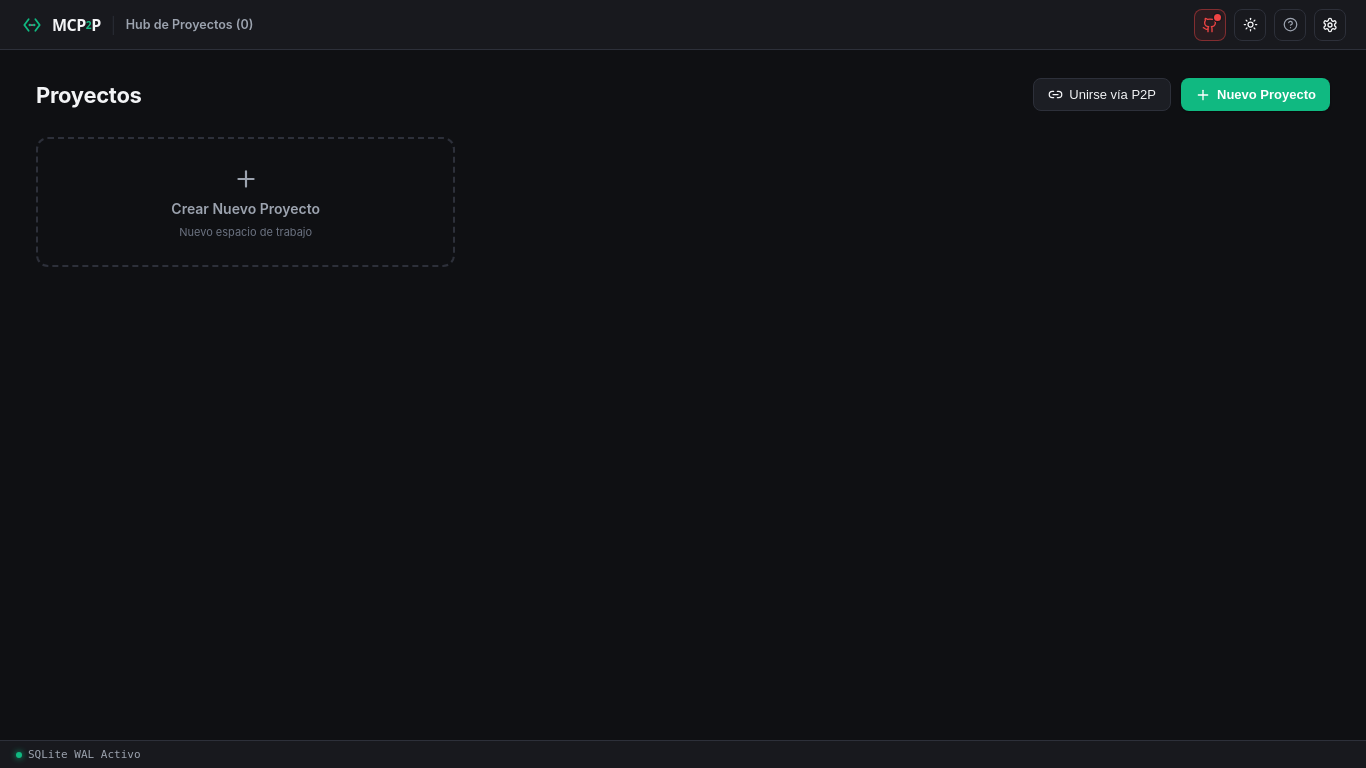
it: App - flujo de unión P2P pendiente › el botón "Volver a Proyectos" limpia pendingJoinRequest y vuelve al hub de proyectos
Click the button "Unirse vía P2P": (1102, 94) left=1033, top=78, right=1171, bottom=111
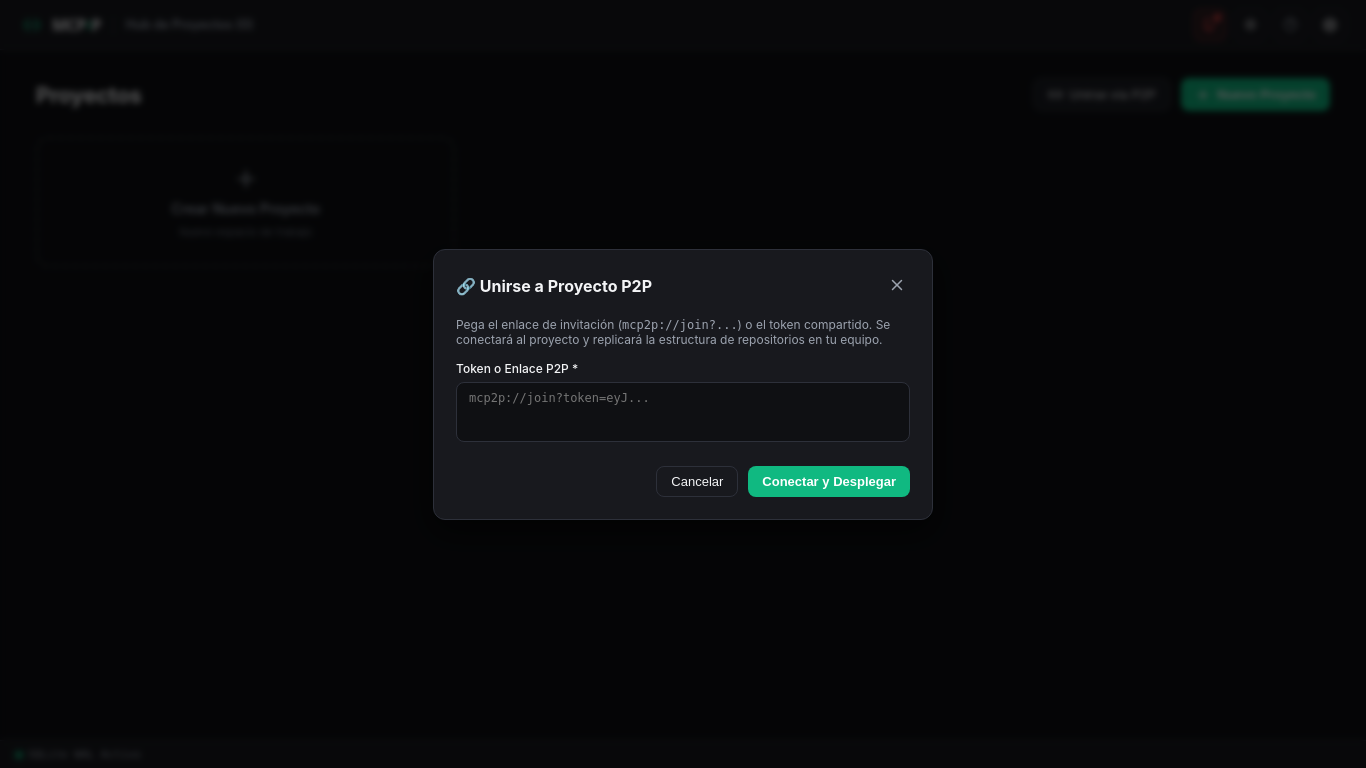
In the text box with placeholder "mcp2p://join?token=eyJ...": (683, 412) left=456, top=382, right=910, bottom=442, type "mcp2p://join?token=abc"
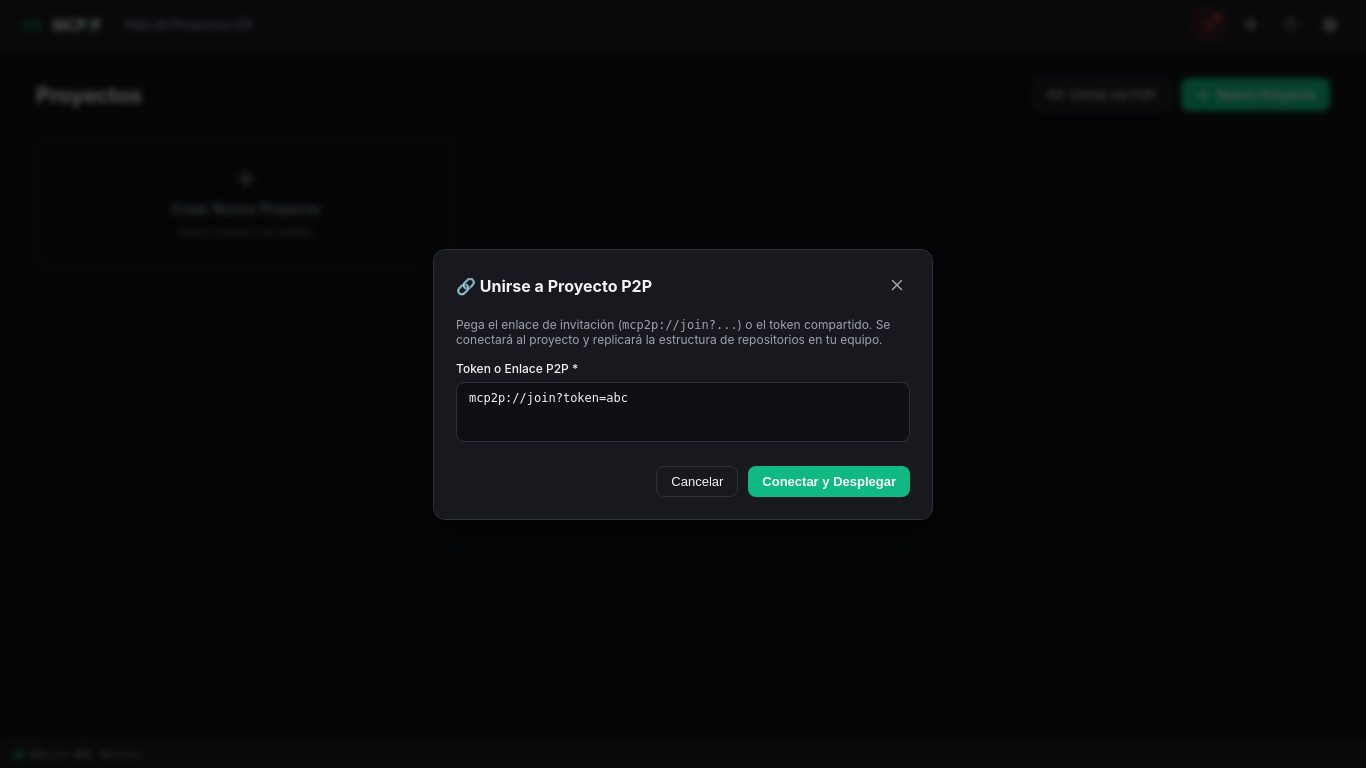
Click the button "Conectar y Desplegar": (829, 481) left=748, top=466, right=910, bottom=496
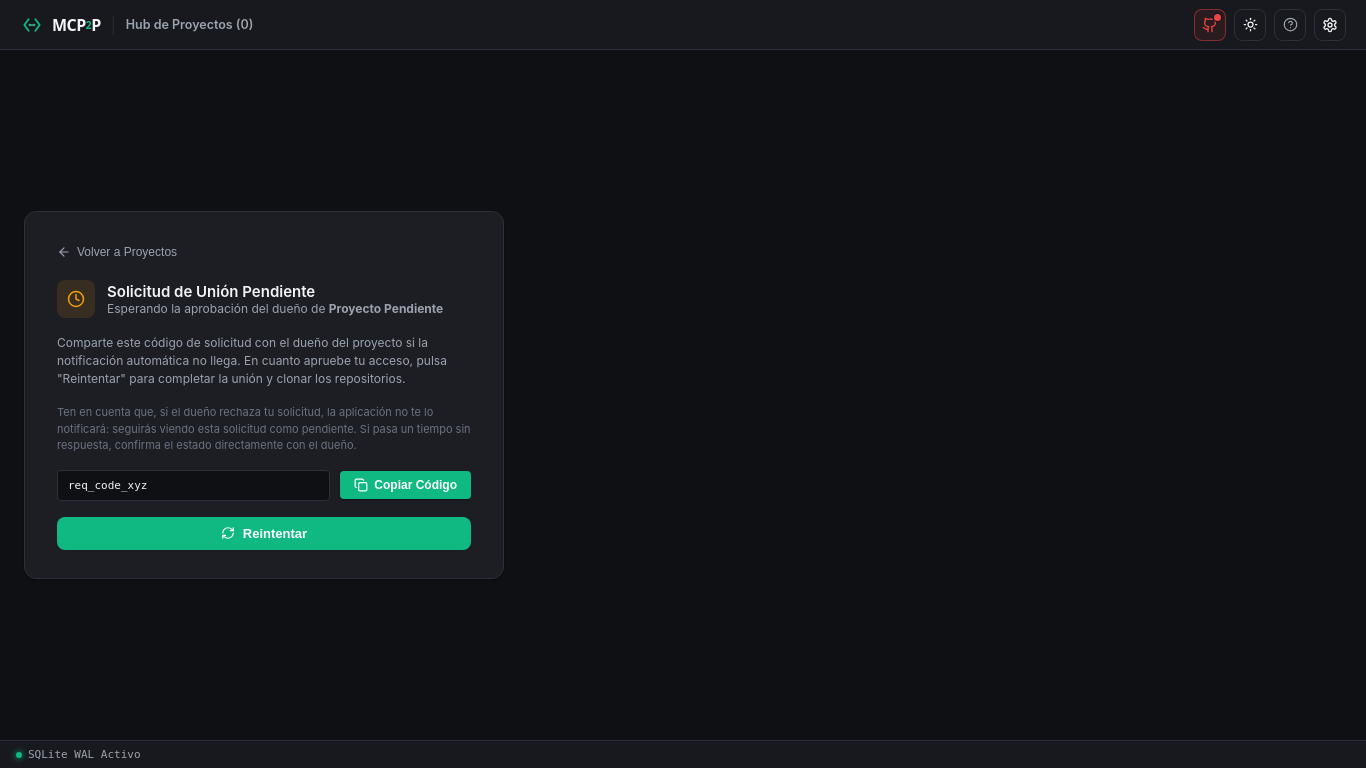
Check: the element with test id "join-request-pending" is shown, box left=24, top=211, right=504, bottom=579
Click the button "Volver a Proyectos": (117, 252) left=57, top=240, right=177, bottom=264
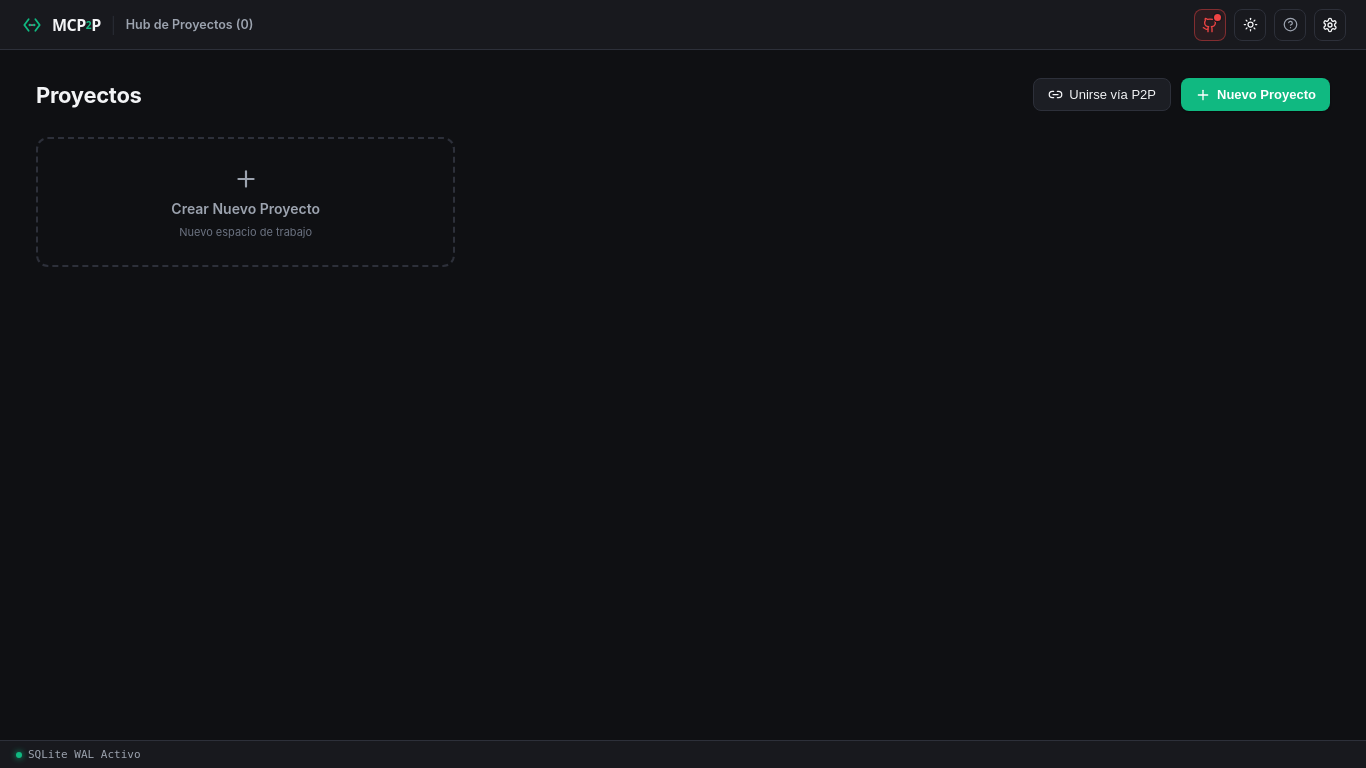
Check: the element with test id "join-request-pending" is gone
Check: the button "Unirse vía P2P" is shown, box left=1033, top=78, right=1171, bottom=111
